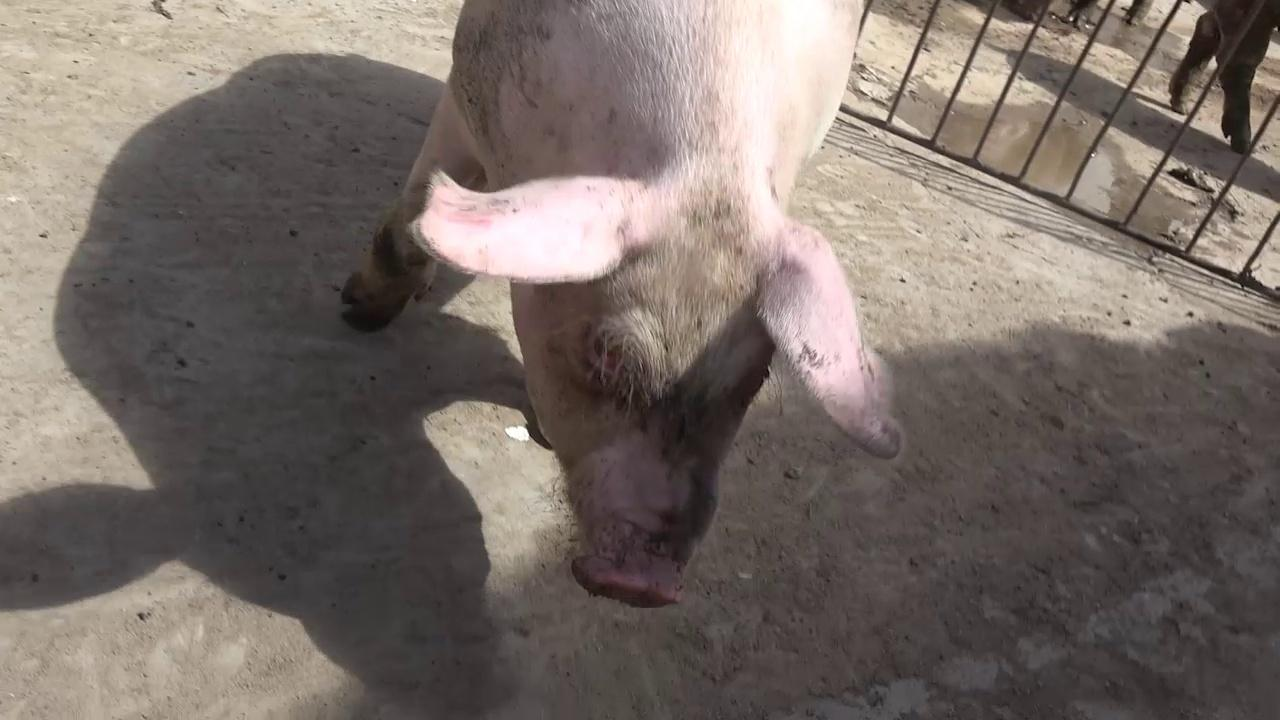Face: (409, 165, 915, 620)
